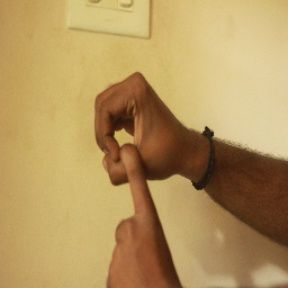Q: (88, 67, 190, 288)
